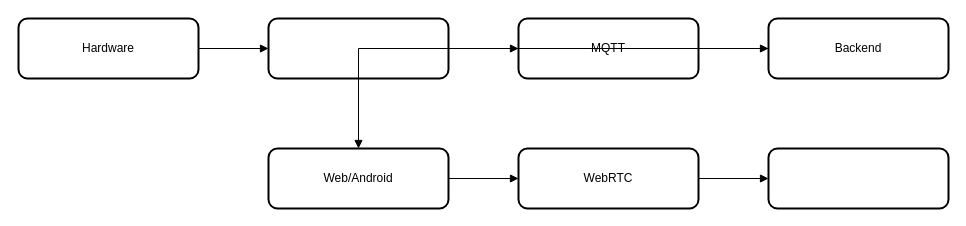
Image size: 966x226. Some labels were removed from this diagram. The centre of each missing label's shape, as x and y in pixels:
"E2E" belongs at point 858,178.
"Firmware" belongs at point 358,48.
